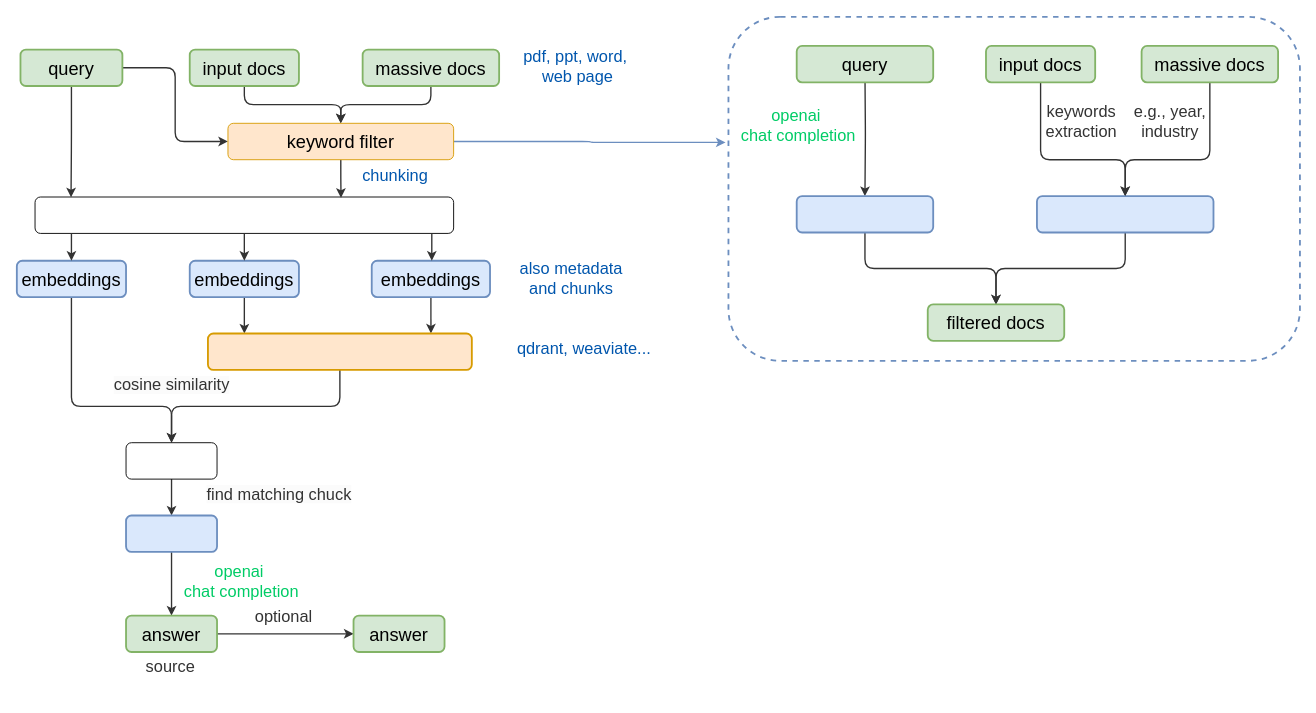
Image size: 1316x713. Some labels were removed from this diagram. Each missing label, with the centre of its shape:
"keyword tree index" belongs at (1125,214).
"openai embedding / other embedding models" belongs at (244,214).
"structured data" belongs at (864,214).
"text" belongs at (171,533).
"topK" belongs at (171,460).
"vector database" belongs at (339,351).
